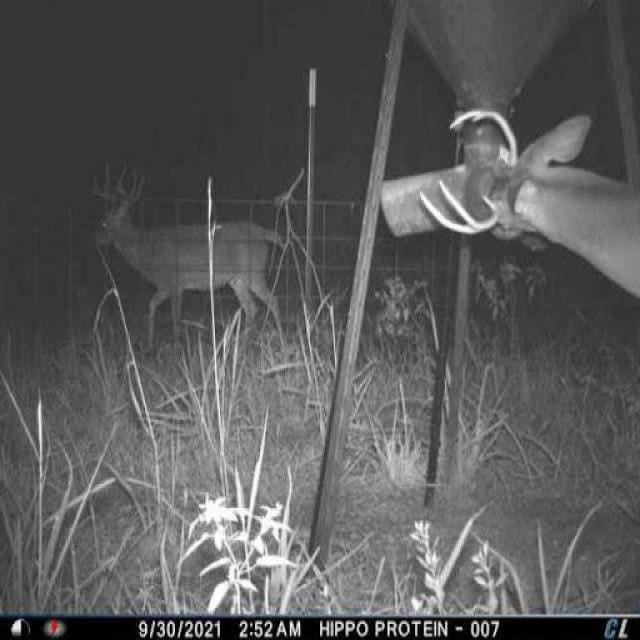deer: (411, 98, 640, 313), (84, 145, 298, 363)
